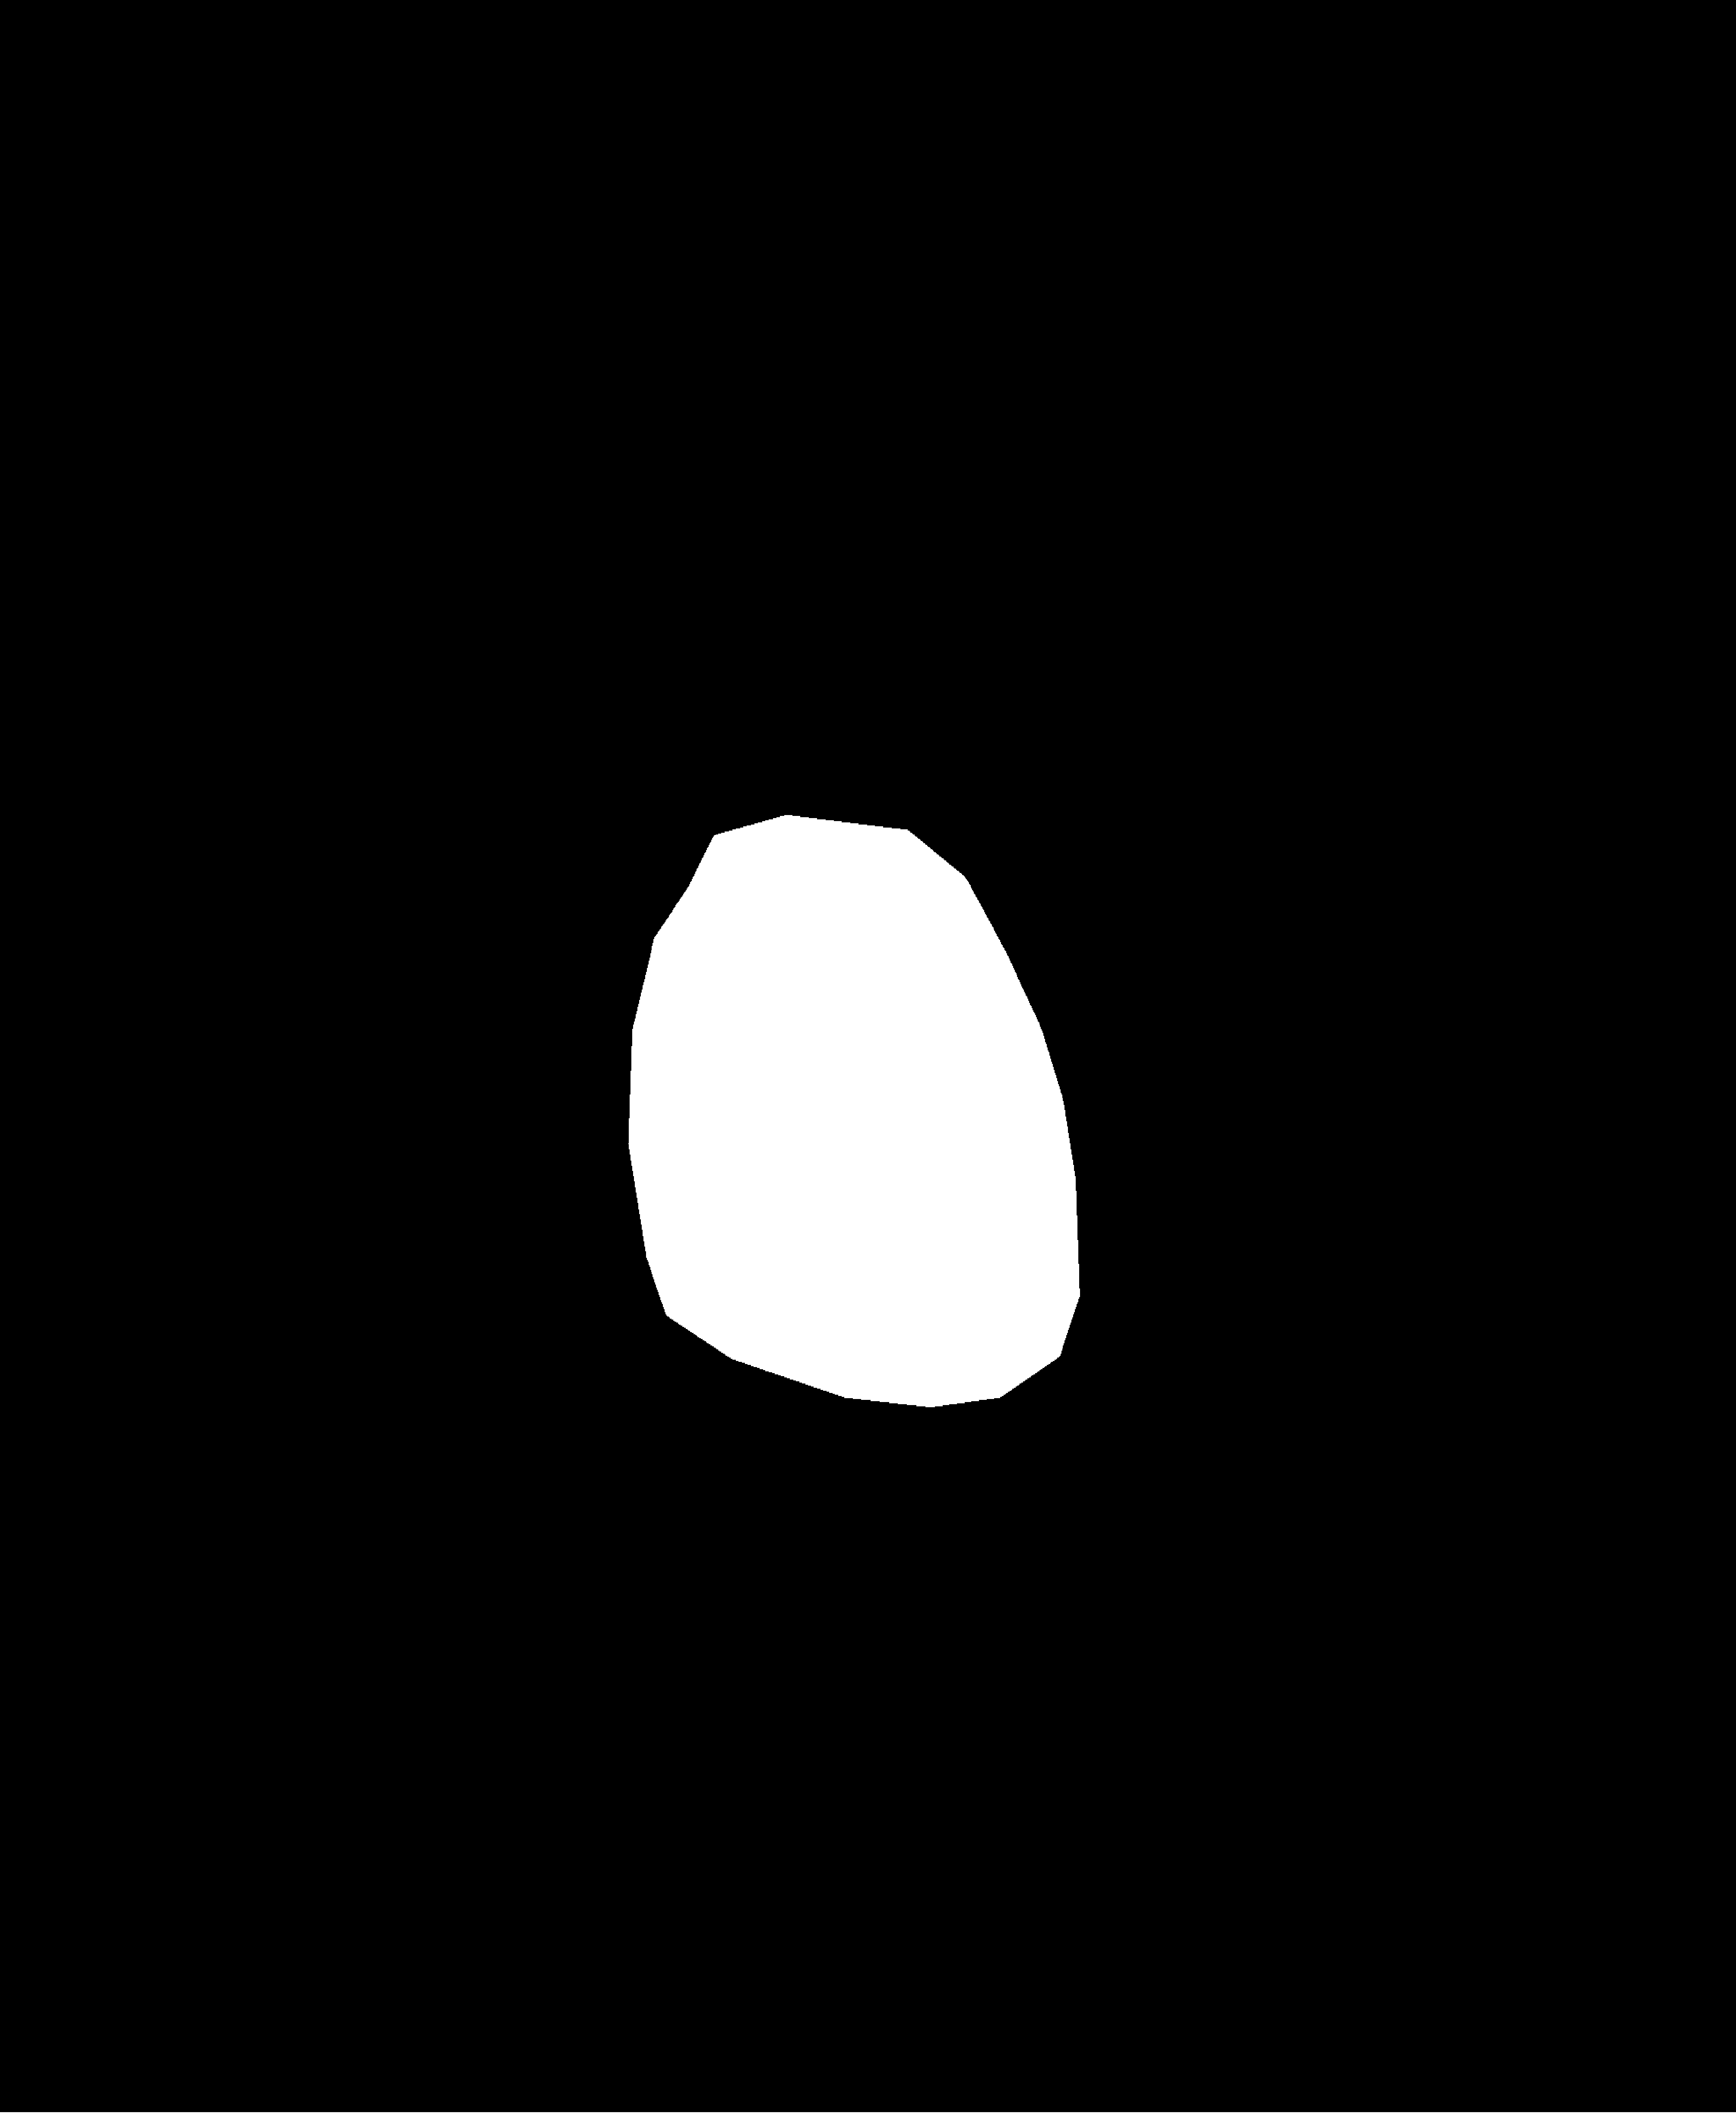heart: (620, 872, 1113, 1406)
left_lung: (118, 263, 728, 1672)
right_lung: (843, 251, 1410, 1672)
